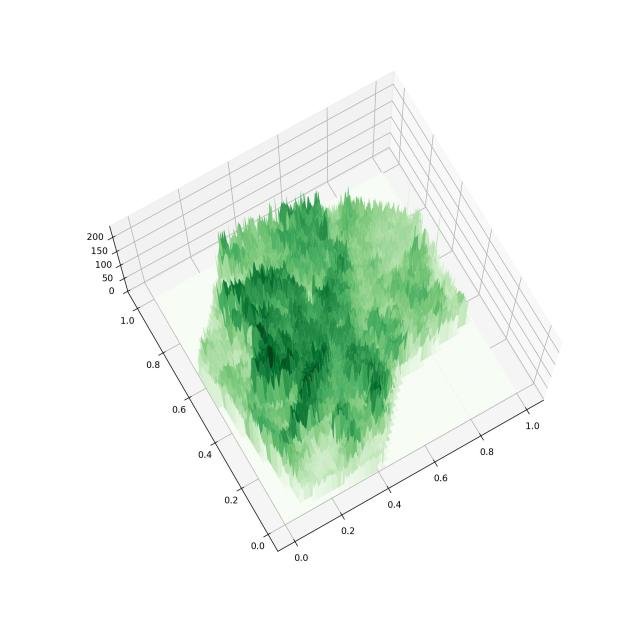fir: (63, 53, 585, 582)
